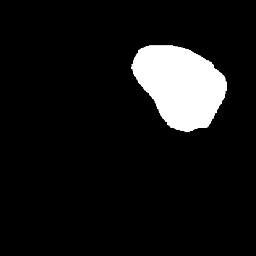mass: (136, 43, 220, 129)
